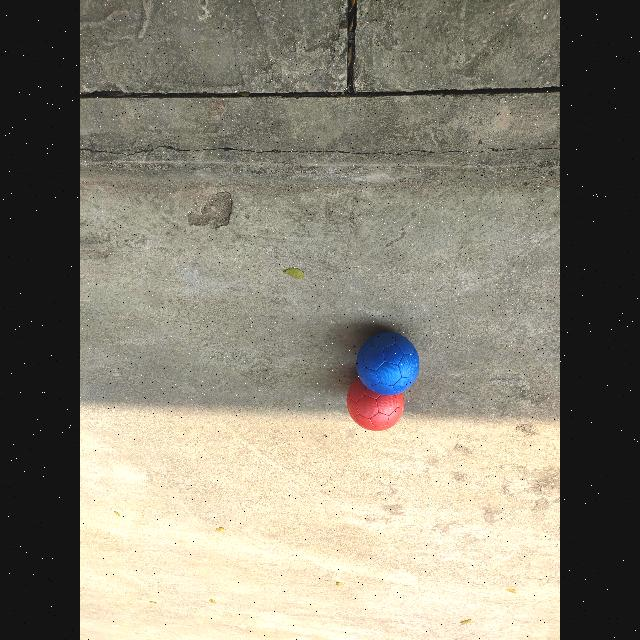B: (357, 332, 420, 396)
R: (347, 378, 405, 431)
